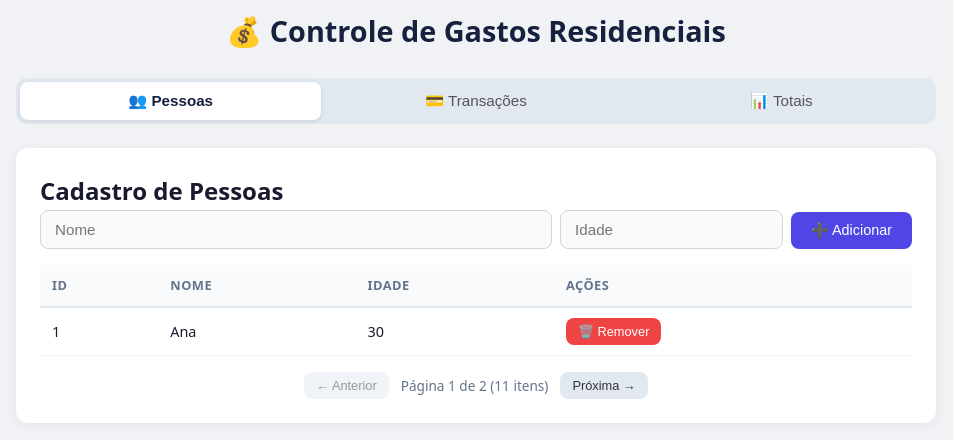
Test: PeopleTab › should paginate the people list
Check: the text "Ana" is shown, box [158,307,356,355]
Check: the text "Página 1 de 2 (11 itens)" is shown, box [401,374,548,396]
Click the button with aria-label "Próxima página": (604, 385) [560,372,648,399]
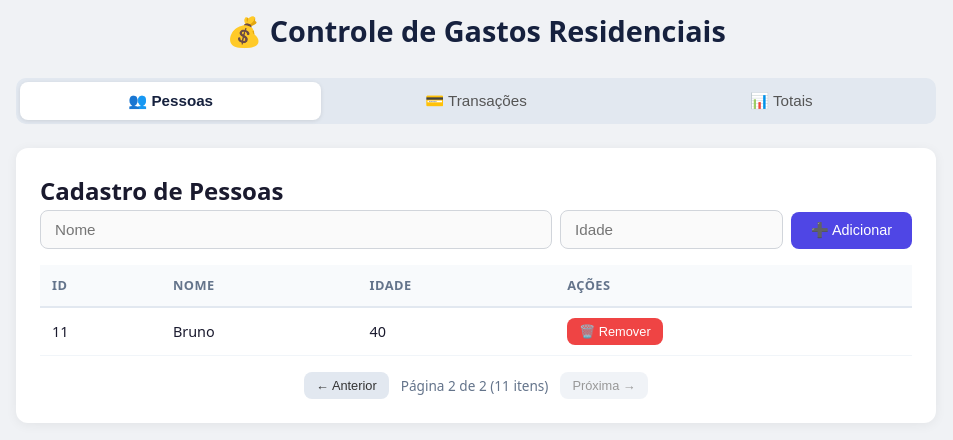
Check: the text "Bruno" is shown, box [161,307,358,355]
Check: the text "Página 2 de 2 (11 itens)" is shown, box [401,374,548,396]
